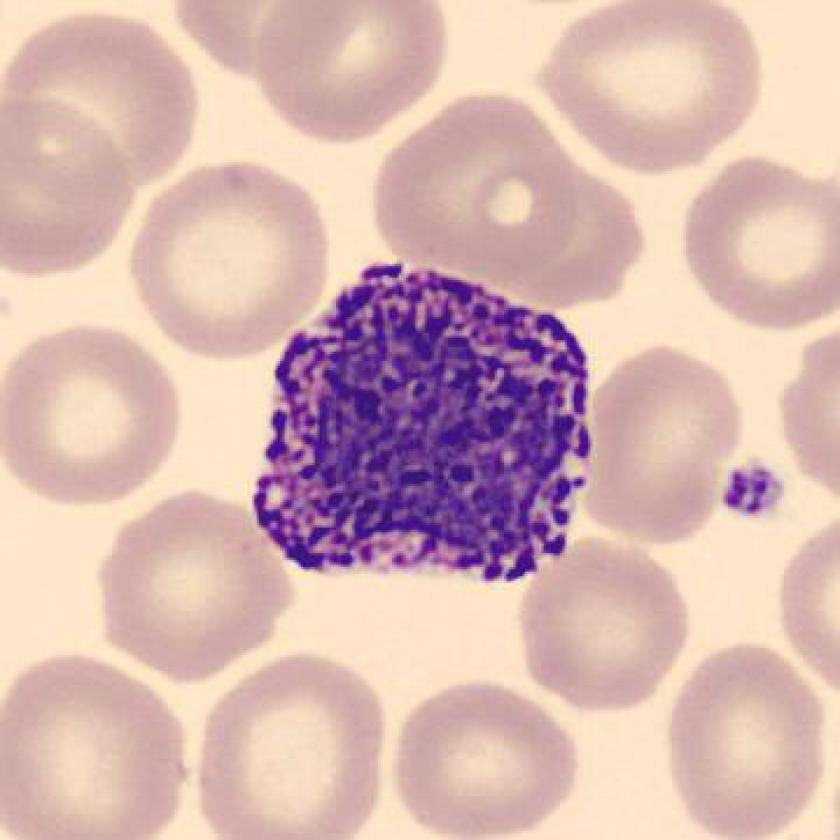basophil: (246, 230, 603, 610)
